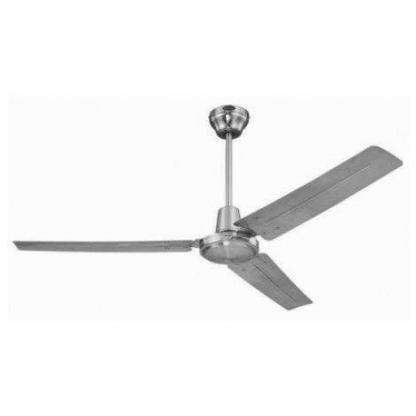ceiling-fan: (10, 104, 403, 308)
